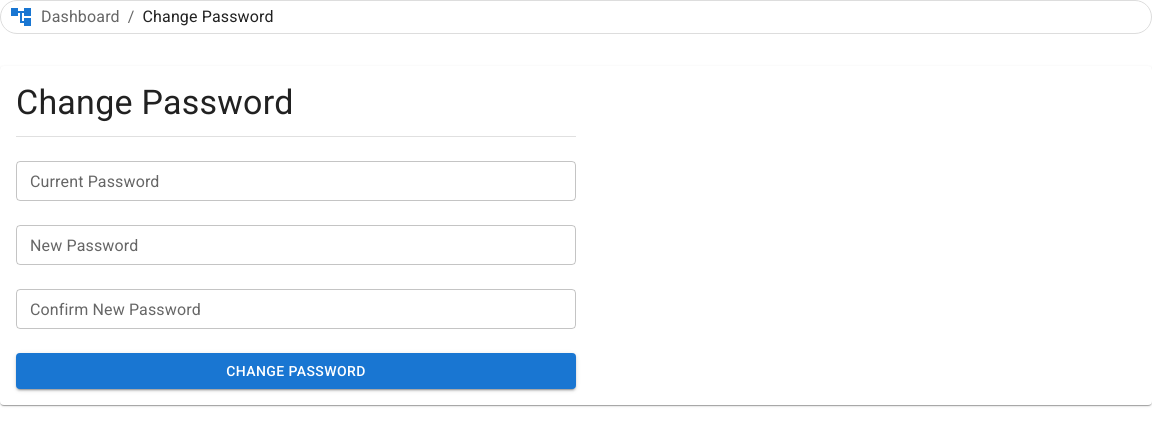
Scenario: Change Password Page › requires matching new passwords
Step 1. Type "CurrentPass123!" into the password field labelled "Current Password" → (296, 181), box [16,161,576,201]
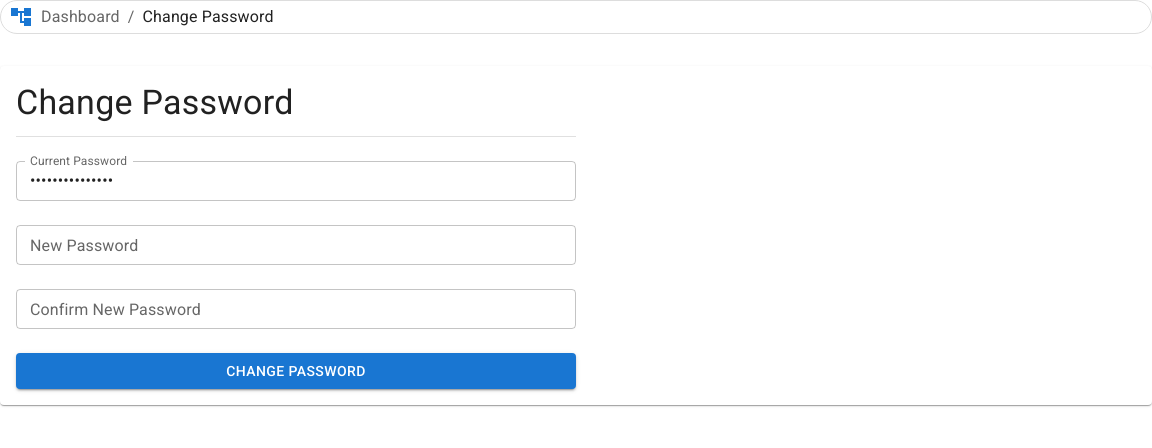
Step 2. Type "NewValidPass123!" into the password field labelled "New Password" → (296, 245), box [16,225,576,265]
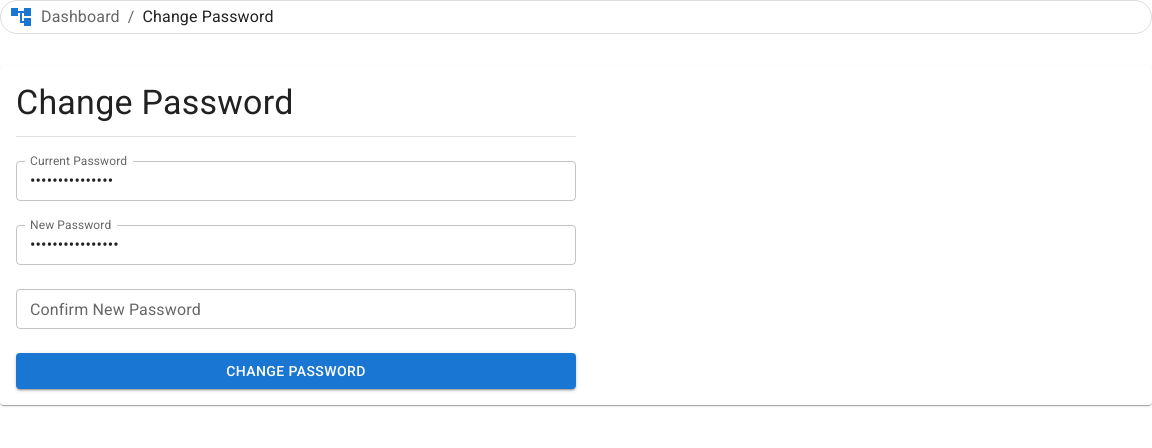
Step 3. Type "DifferentPass123!" into the password field labelled "Confirm New Password" → (296, 309), box [16,289,576,329]
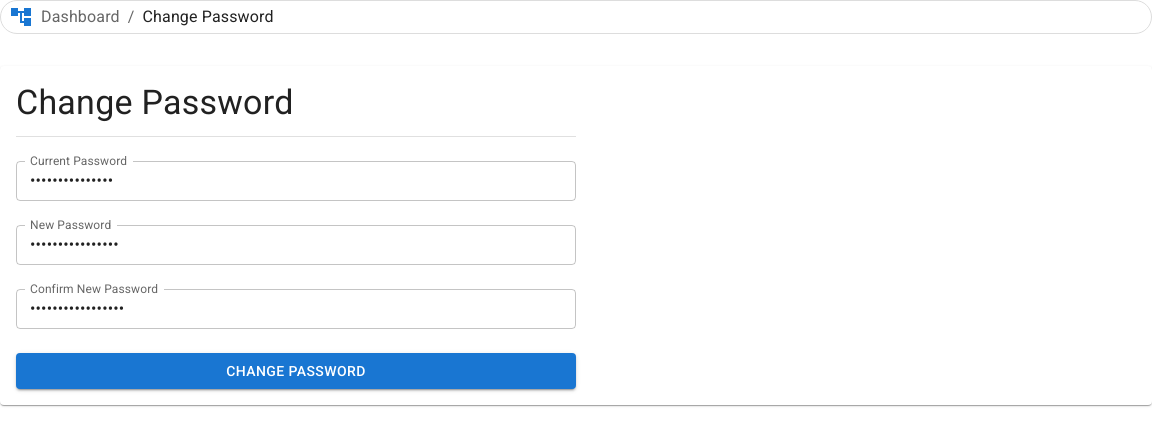
Step 4. Click the button "Change Password" → (296, 371), box [16,353,576,389]
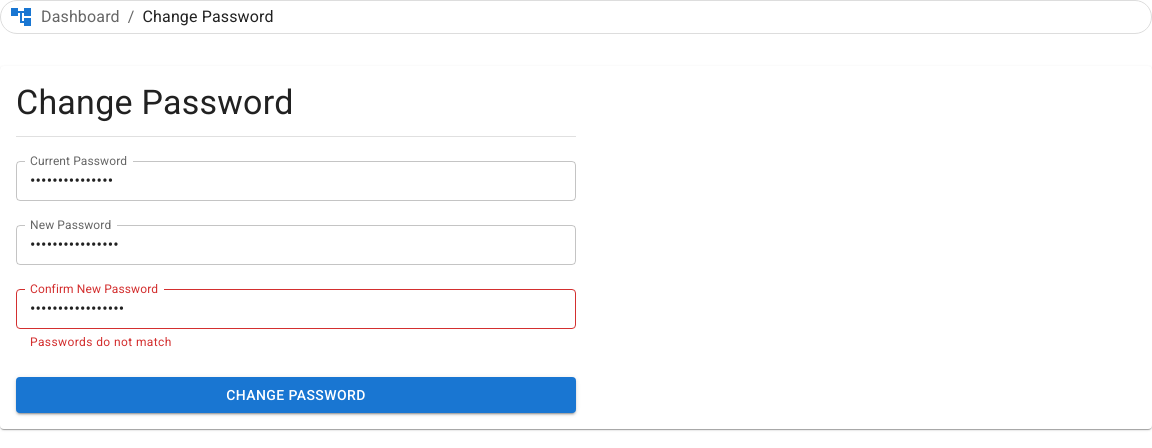
Now the text "Passwords do not match" is shown, box [30,335,172,349]
